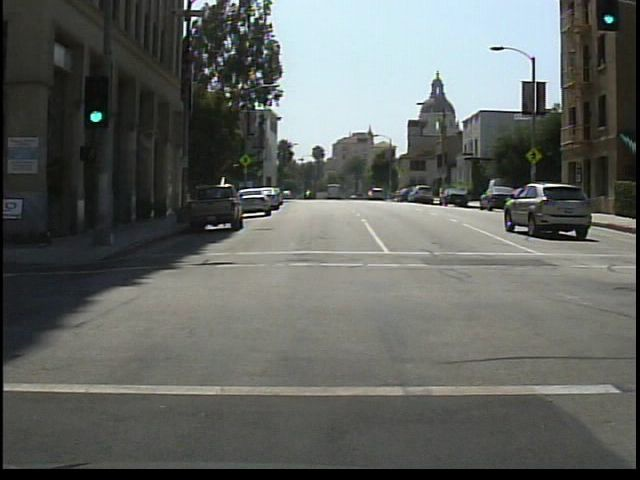person: (2, 160, 9, 253)
